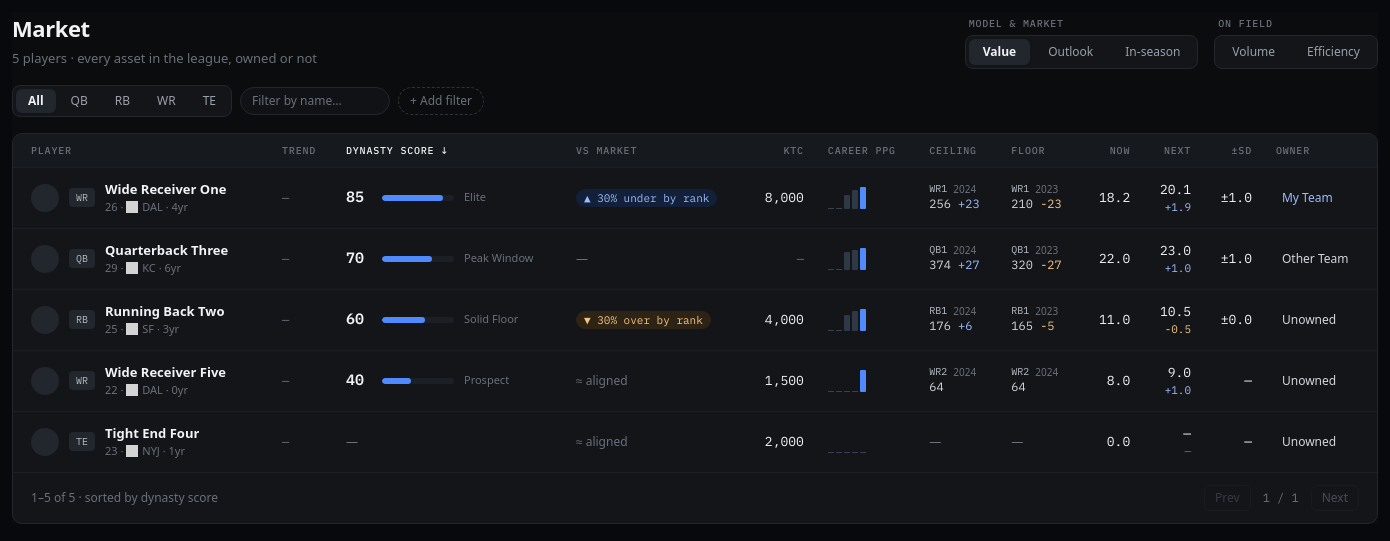
Market › search (1b Slice vii) › narrows the rendered rows by full_name, case-insensitively
Type "wide receiver" into the field named "Filter players by name" at (315, 100), box [240,86,390,114]
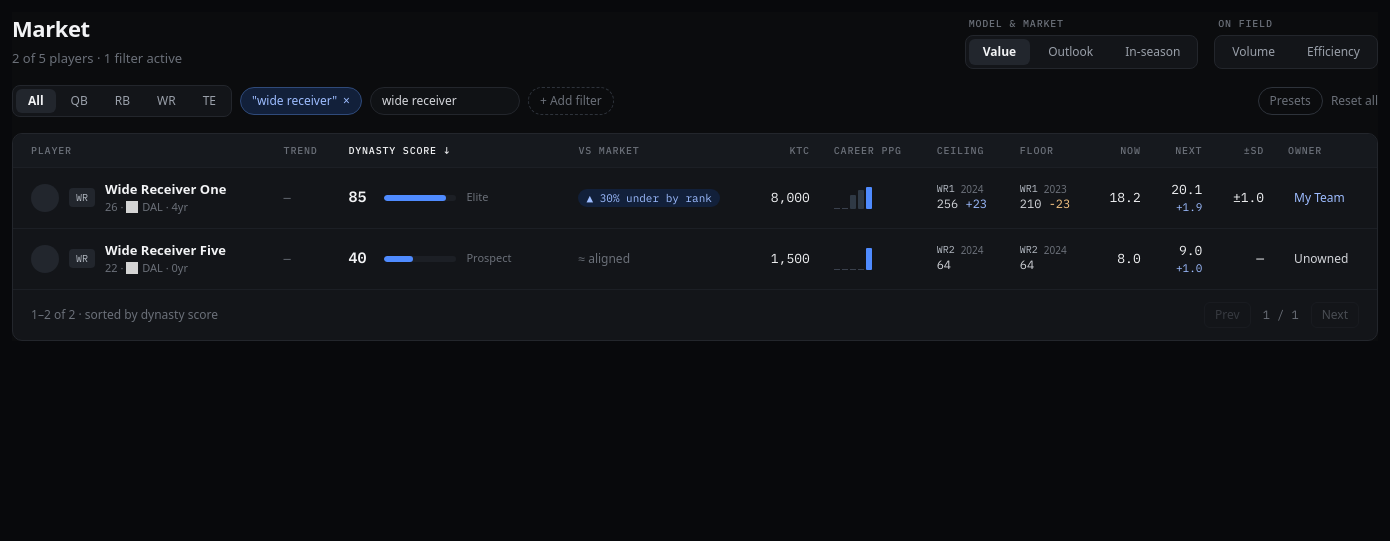
Expected: the text "Wide Receiver One" is shown, [105,180,226,199]
Expected: the button "Running Back Two" is gone
